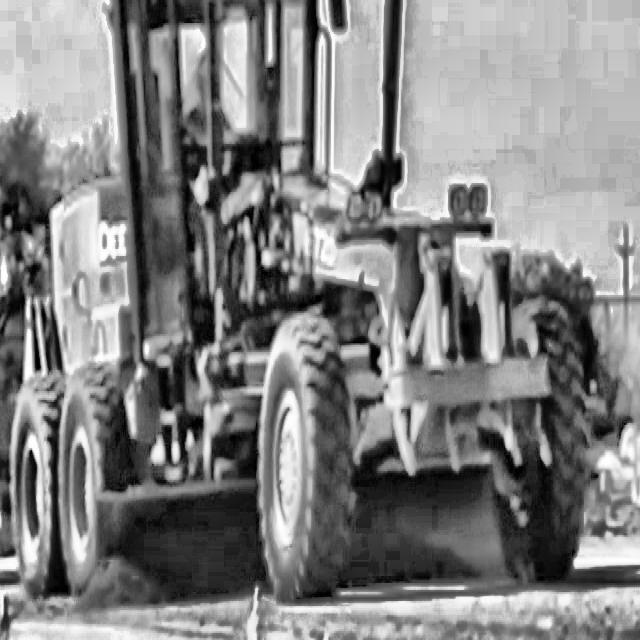buldozerpayloadergrader: (0, 0, 597, 617)
